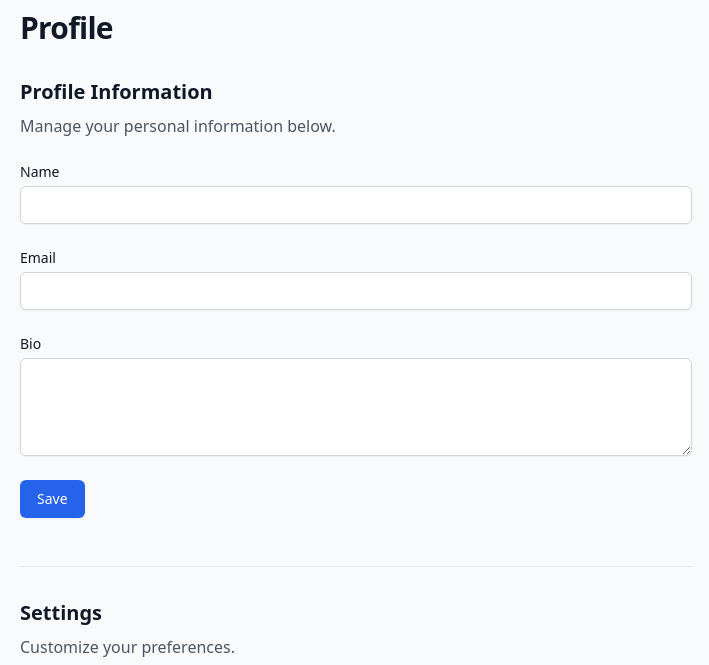
Test: Profile Component › Validation - Error Messages › clears email error when user starts typing in email field
Type "John Doe" into the field labelled "Name" at (356, 205), box [20,186,692,224]
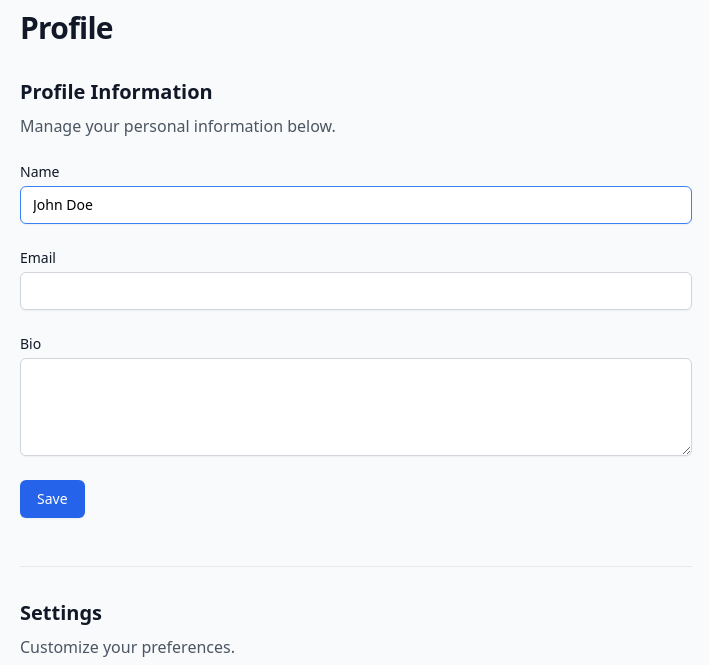
Click the button "Save" at (52, 499), box [20,480,85,518]
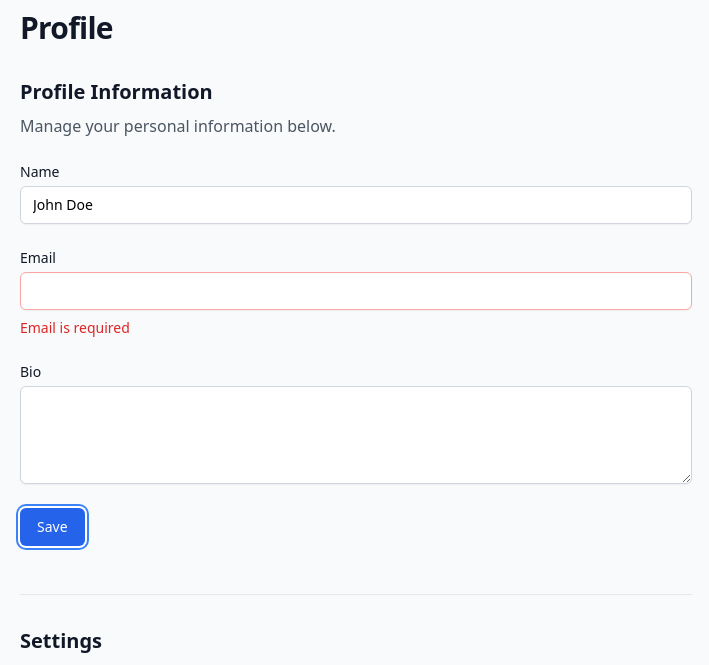
Expected: the text "Email is required" is shown, [20,318,130,337]
Type "j" into the field labelled "Email" at (356, 291), box [20,272,692,310]
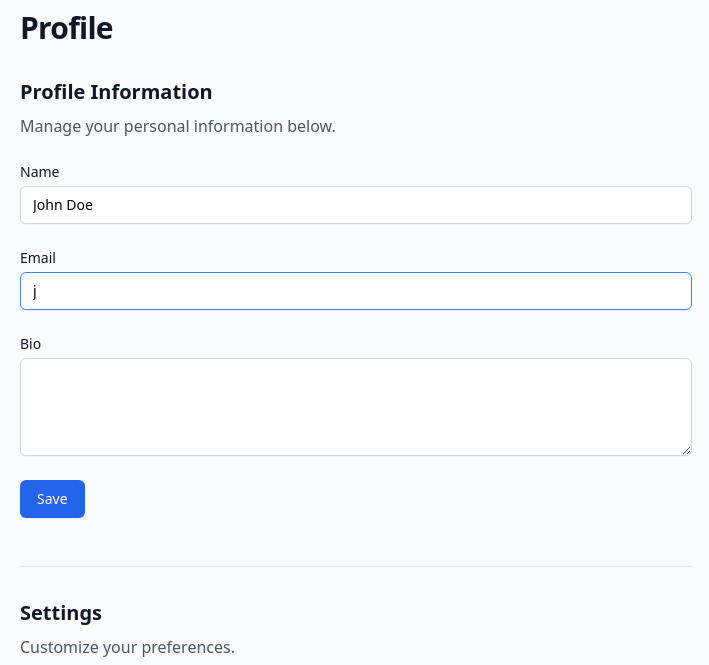
Expected: the text "Email is required" is gone
